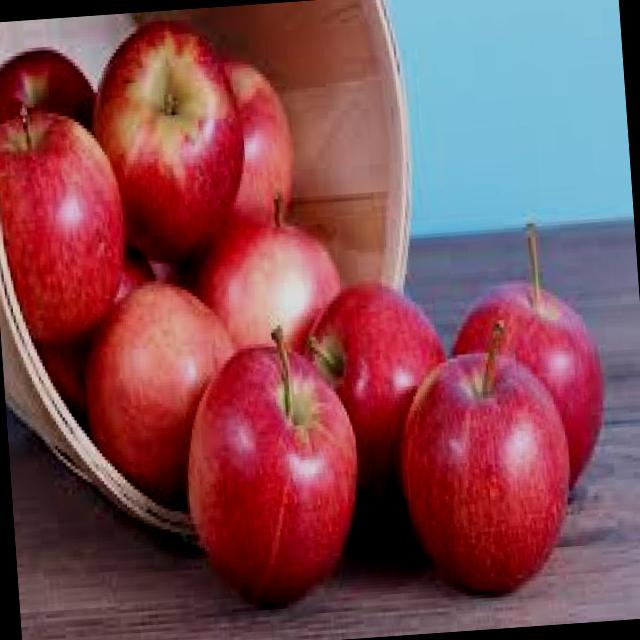Apple: (175, 319, 369, 611), (392, 316, 580, 600), (443, 218, 610, 498), (85, 12, 254, 267), (300, 274, 459, 528), (78, 272, 248, 509), (0, 97, 134, 350), (186, 190, 346, 358), (214, 54, 301, 230), (0, 39, 98, 134)
